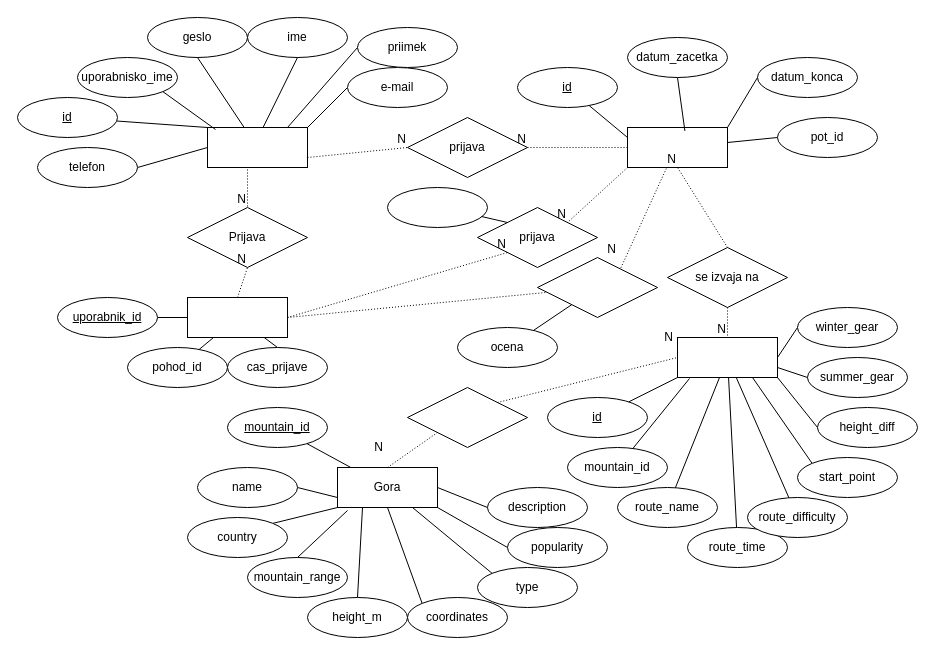
This 935x655 diagram has some shape labels left out. The centre of each missing label's shape, as x and y in pixels:
oceni: (597,287)
Pohod: (677,147)
Pot: (727,357)
Prijava_na_pohod: (237,317)
status udeležbe: (437,207)
Uporabnik: (257,147)
vodi na: (467,417)
